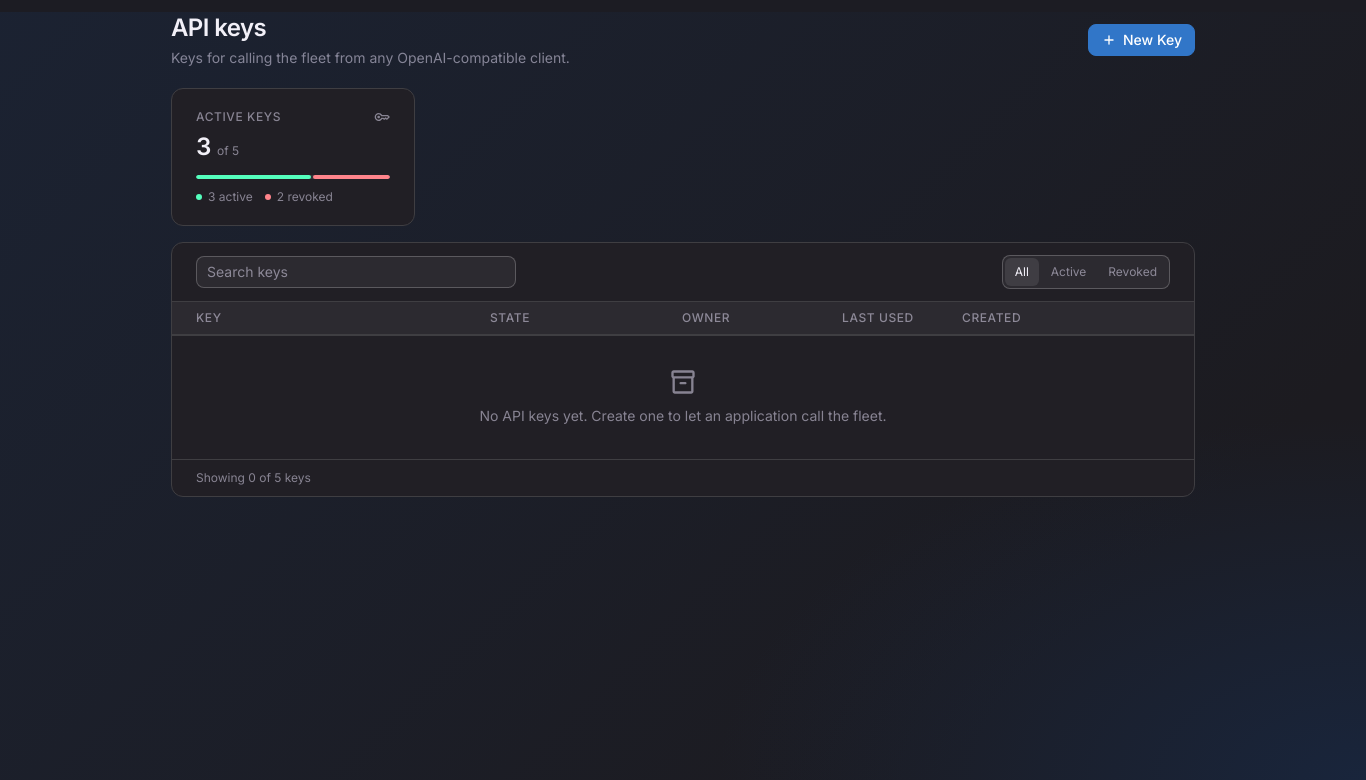
it: API keys page › says there are no keys yet, leaving creation to the heading, and says when a search matches none
This screenshot has width=1366, height=780.
Expected: the element with test id "table-empty" shows "No API keys yet.", top-left (479, 407), bottom-right (886, 424)
Expected: the link to "/api-keys/create" is shown, top-left (1088, 24), bottom-right (1195, 56)
Type "chat" into the field with placeholder "Search keys".
click(356, 272); type("chat")  # box top-left (207, 257), bottom-right (505, 287)
Wait 400 ms
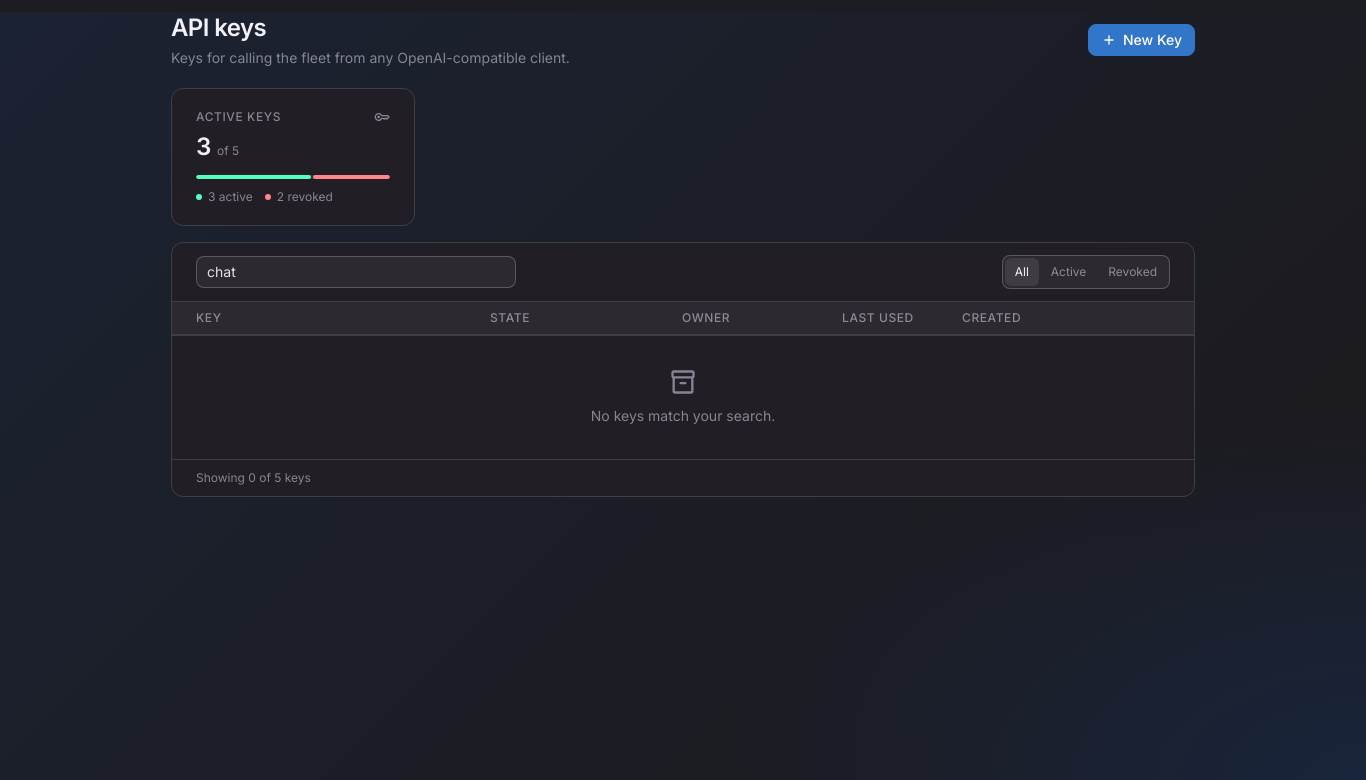
Expected: the element with test id "table-empty" reads "No keys match your search.", top-left (591, 407), bottom-right (775, 424)
